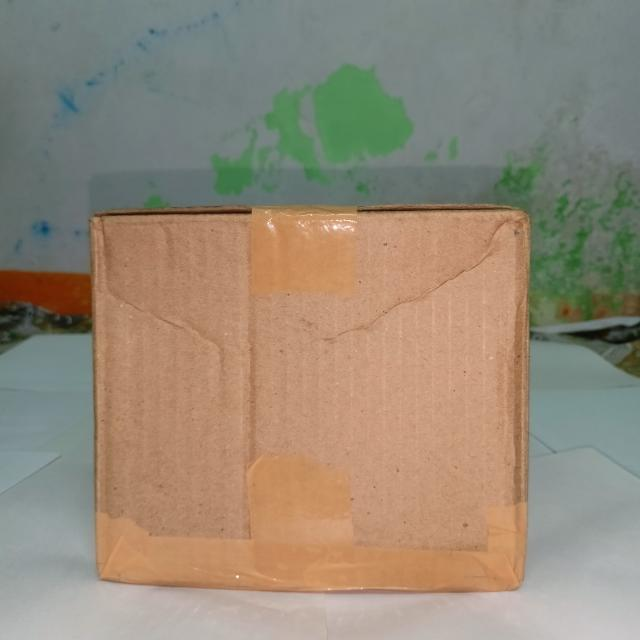box: (90, 206, 533, 597)
